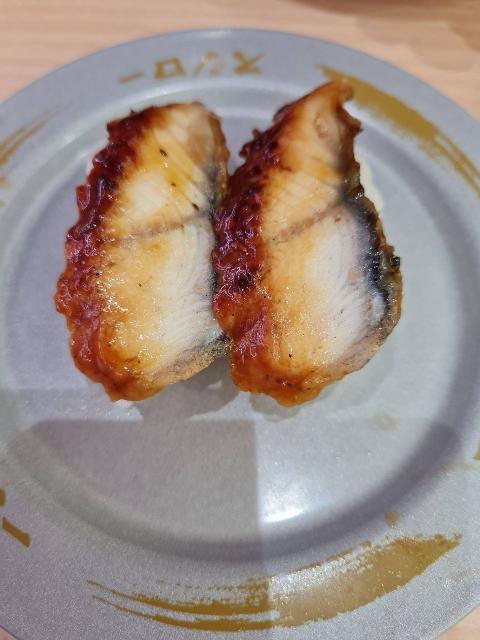janwhite: (15, 34, 480, 614)
